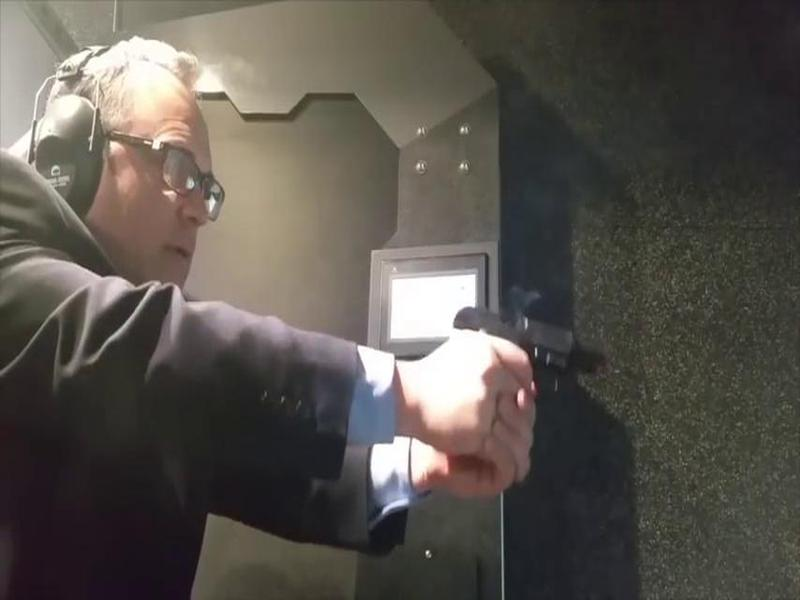Pistola: (437, 279, 590, 402)
